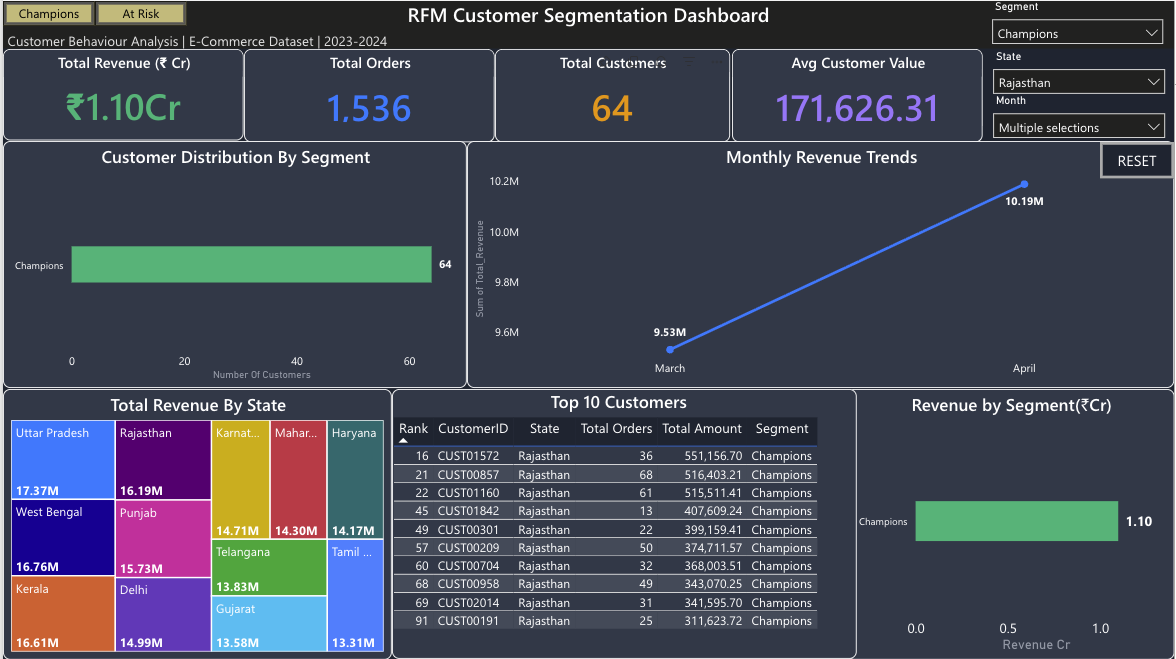

The page's visual inventory and layout, read from the dashboard file:
{"tool":"powerbi","page":{"name":"Page 1","canvas":[1280,720],"ordinal":0},"visuals":[{"type":"cardVisual","title":"Total Revenue (₹ Cr)","fields":{"Data":["rfm_master.Total Revenue Cr"]},"box":[0,52.1,263.4,100],"z":0},{"type":"cardVisual","title":"Total Customers","fields":{"Data":["Count(rfm_master.CustomerID)"]},"box":[537.9,52.1,256.6,101.5],"z":1000},{"type":"cardVisual","title":"Total Orders","fields":{"Data":["Sum(rfm_master.Frequency)"]},"box":[263.5,52.1,274.4,101.5],"z":2000},{"type":"cardVisual","title":"Avg Customer Value","fields":{"Data":["Avg(rfm_master.Monetary)"]},"box":[797.3,52.1,274.4,101.5],"z":3000},{"type":"clusteredBarChart","title":"Customer Distribution By Segment","fields":{"Category":["rfm_master.Segment"],"Y":["Count(rfm_master.CustomerID)"]},"box":[0,153.5,507,270],"z":4000},{"type":"clusteredBarChart","title":"Revenue by Segment(₹Cr)","fields":{"Category":["rfm_master.Segment"],"Y":["rfm_master.Revenue Cr"]},"box":[922.1,424,358.1,296.4],"z":5000},{"type":"lineChart","title":"Monthly Revenue Trends","fields":{"Category":["monthly_trends.Month.Variation.Date Hierarchy.Month"],"Y":["Sum(monthly_trends.Total_Revenue)"]},"box":[507,153.5,773.2,270.4],"z":6000},{"type":"tableEx","title":"Top 10 Customers","fields":{"Values":["rfm_master.Rank","rfm_master.CustomerID","rfm_master.State","Sum(rfm_master.Frequency)","Sum(rfm_master.Monetary)","rfm_master.Segment"]},"box":[425.4,424,507.7,295],"z":7000},{"type":"textbox","title":"RFM Customer Segmentation Dashboard","box":[0,0,1280,52.2],"z":8000},{"type":"slicer","title":"Segment","fields":{"Values":["rfm_master.Segment"]},"box":[1071.1,0,207.3,57],"z":9000},{"type":"slicer","title":"Segment","fields":{"Values":["rfm_master.State"]},"box":[1071.8,52.1,208.5,50.7],"z":10000},{"type":"slicer","title":"Segment","fields":{"Values":["monthly_trends.Month.Variation.Date Hierarchy.Month"]},"box":[1071.8,102.8,208.5,50.7],"z":11000},{"type":"actionButton","box":[1199.3,153.7,81,39.8],"z":12000},{"type":"treemap","title":"Total Revenue By State","fields":{"Group":["geographic_summary.State"],"Values":["Sum(geographic_summary.Total_Revenue)"]},"box":[0,424,425,296],"z":13000},{"type":"actionButton","box":[0,0,100.4,27.2],"z":14000},{"type":"actionButton","box":[100.4,0,100.4,27.2],"z":15000}]}

Visuals, with their boxes in screenshot pixels (x1, y1, x2, y2), scaled from the page's 1280x720 canvas onto the 1176x659 screenshot:
"Total Revenue (₹ Cr)" cardVisual: <region>0, 48, 242, 139</region>
"Total Customers" cardVisual: <region>494, 48, 730, 141</region>
"Total Orders" cardVisual: <region>242, 48, 494, 141</region>
"Avg Customer Value" cardVisual: <region>733, 48, 985, 141</region>
"Customer Distribution By Segment" clusteredBarChart: <region>0, 140, 466, 388</region>
"Revenue by Segment(₹Cr)" clusteredBarChart: <region>847, 388, 1175, 658</region>
"Monthly Revenue Trends" lineChart: <region>466, 140, 1175, 388</region>
"Top 10 Customers" tableEx: <region>391, 388, 857, 658</region>
"RFM Customer Segmentation Dashboard" textbox: <region>0, 0, 1175, 48</region>
"Segment" slicer: <region>984, 0, 1175, 52</region>
"Segment" slicer: <region>985, 48, 1175, 94</region>
"Segment" slicer: <region>985, 94, 1175, 140</region>
actionButton: <region>1102, 141, 1175, 177</region>
"Total Revenue By State" treemap: <region>0, 388, 390, 658</region>
actionButton: <region>0, 0, 92, 25</region>
actionButton: <region>92, 0, 184, 25</region>
